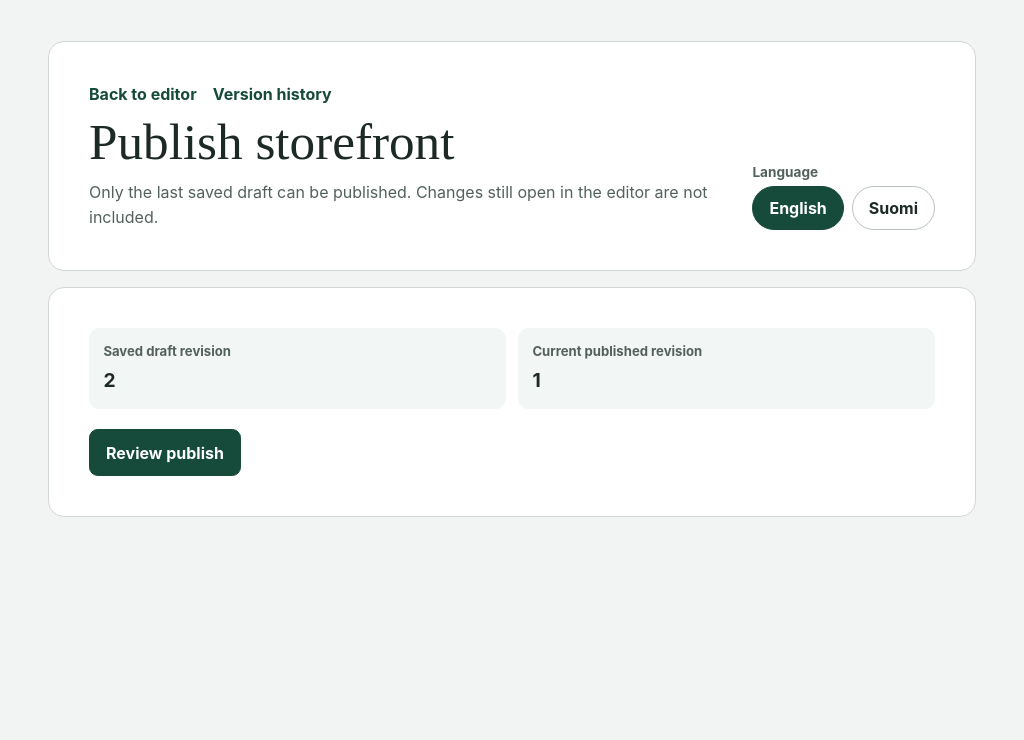
P2-12 publish confirmation route › reviews only saved draft content without writing
Click the button "Review publish": click(165, 453) [89, 429, 241, 476]
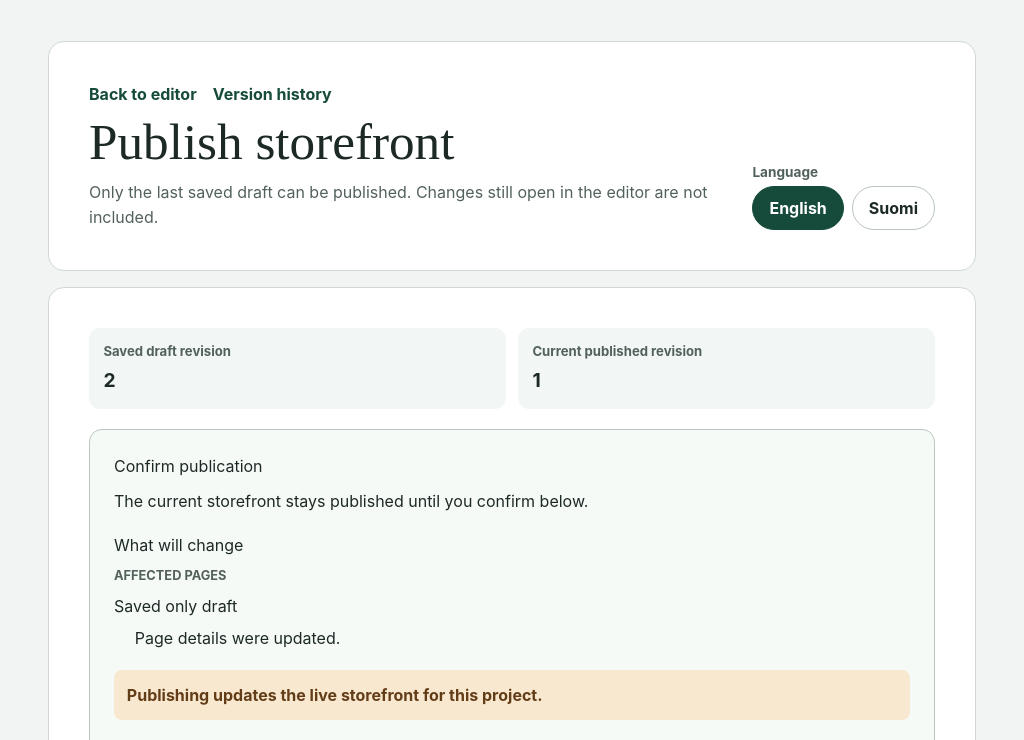
Expected: the text "Saved only draft" is shown, [114, 596, 237, 616]
Expected: the heading "Confirm publication" is shown, [114, 456, 263, 476]
